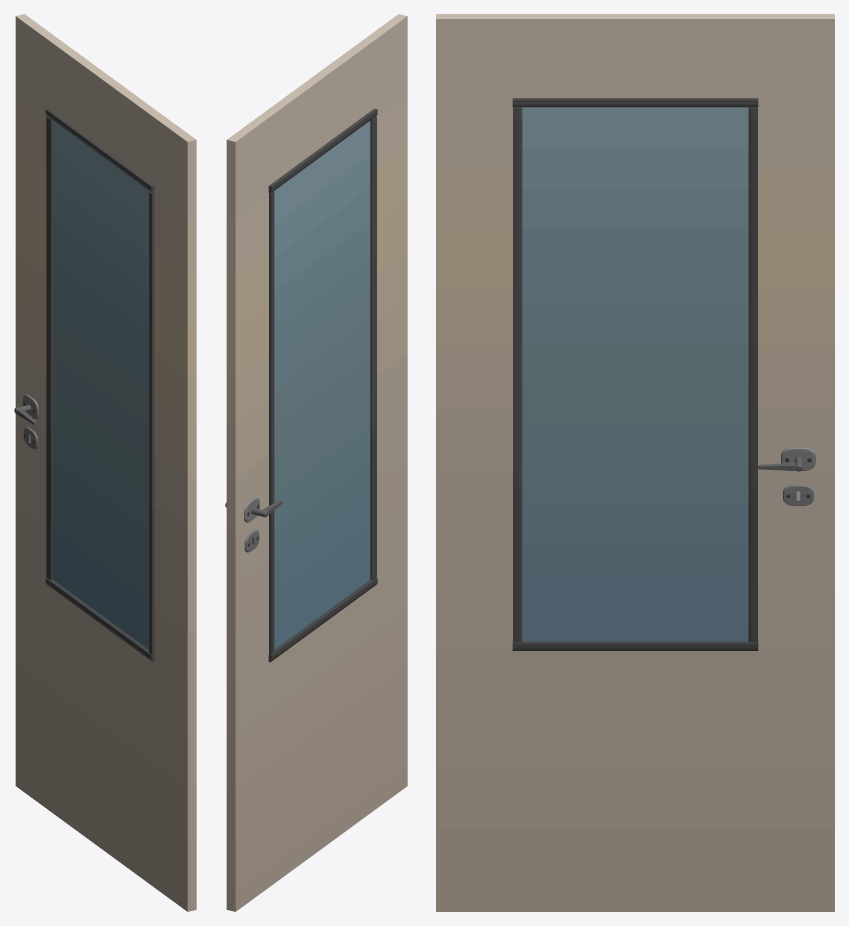
File: doors2.fbx
3 renders of one model, left to right at view 1: azimuth 30°, elevation 25°; view 2: azimuth 150°, elevation 25°; view 3: azimuth 270°, elevation 25°, orthographic. The views are drawn at different scales.
Parts seen in each view (by area): view 1: doors2; view 2: doors2; view 3: doors2.
Part boxes in pixels (bbox=[...]): doors2: bbox=[14, 14, 196, 911]; doors2: bbox=[225, 14, 407, 911]; doors2: bbox=[436, 14, 834, 911].
Bounding box in the file's own units: 21.14 × 381 × 154.
